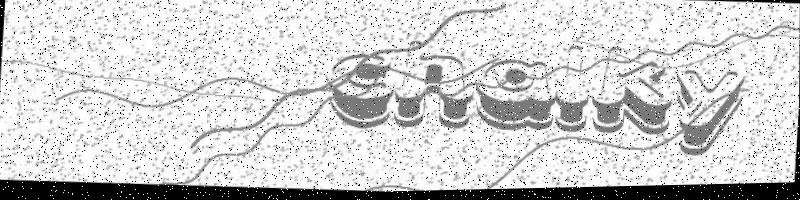a: (471, 57, 558, 135)
c: (326, 52, 395, 132)
h: (392, 39, 476, 133)
k: (589, 45, 676, 141)
l: (553, 45, 591, 137)
y: (670, 68, 748, 162)
